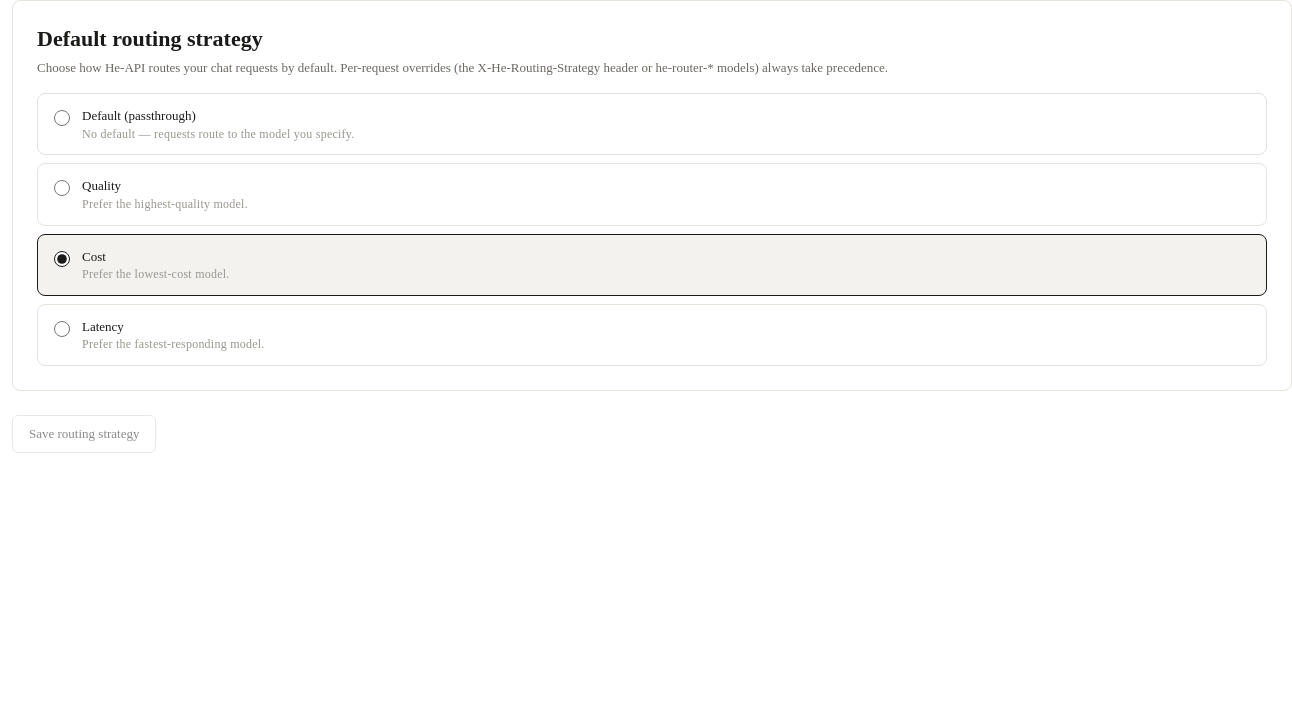
Test case: AC1: RoutingStrategyForm — select + persist › 6.5-UNIT-004: save success → success banner; selection retained
Click the radio button labelled "Quality Prefer the highest-quality model.". click: x=62, y=188
box: [54,180,70,196]
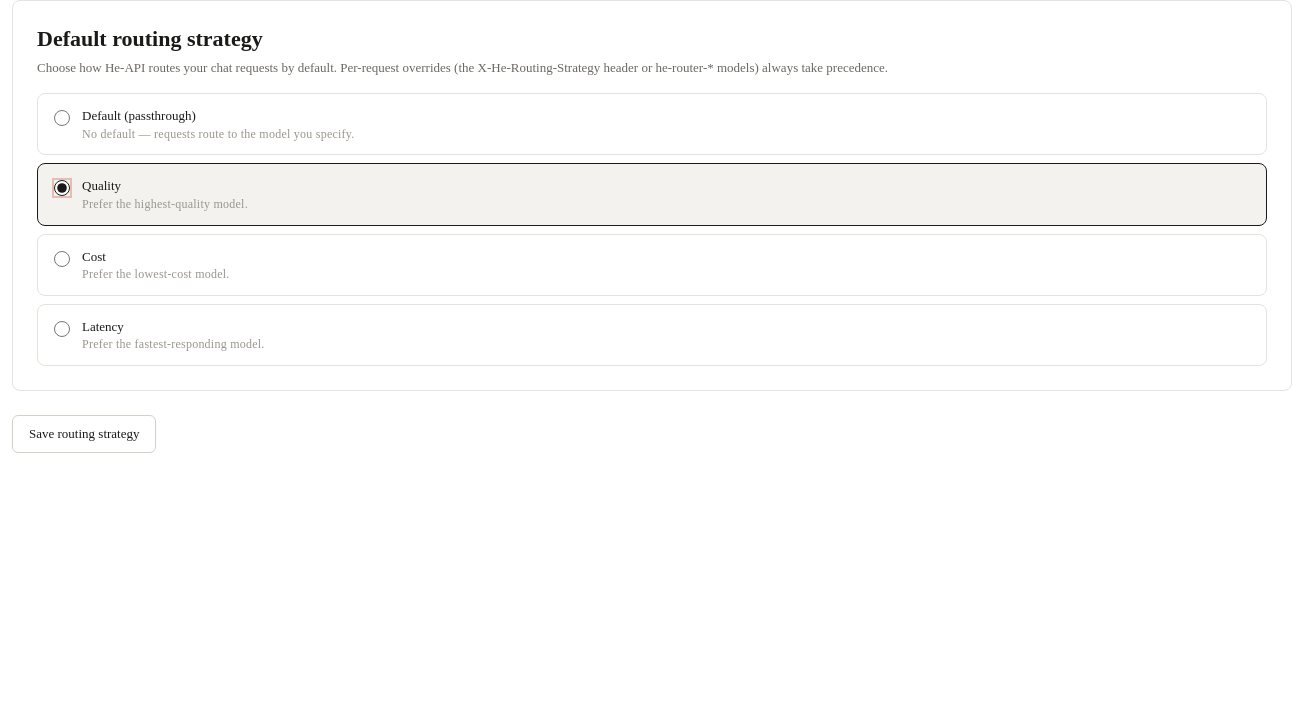
Click the button "Save routing strategy". click: x=84, y=434
box: [12,415,156,453]
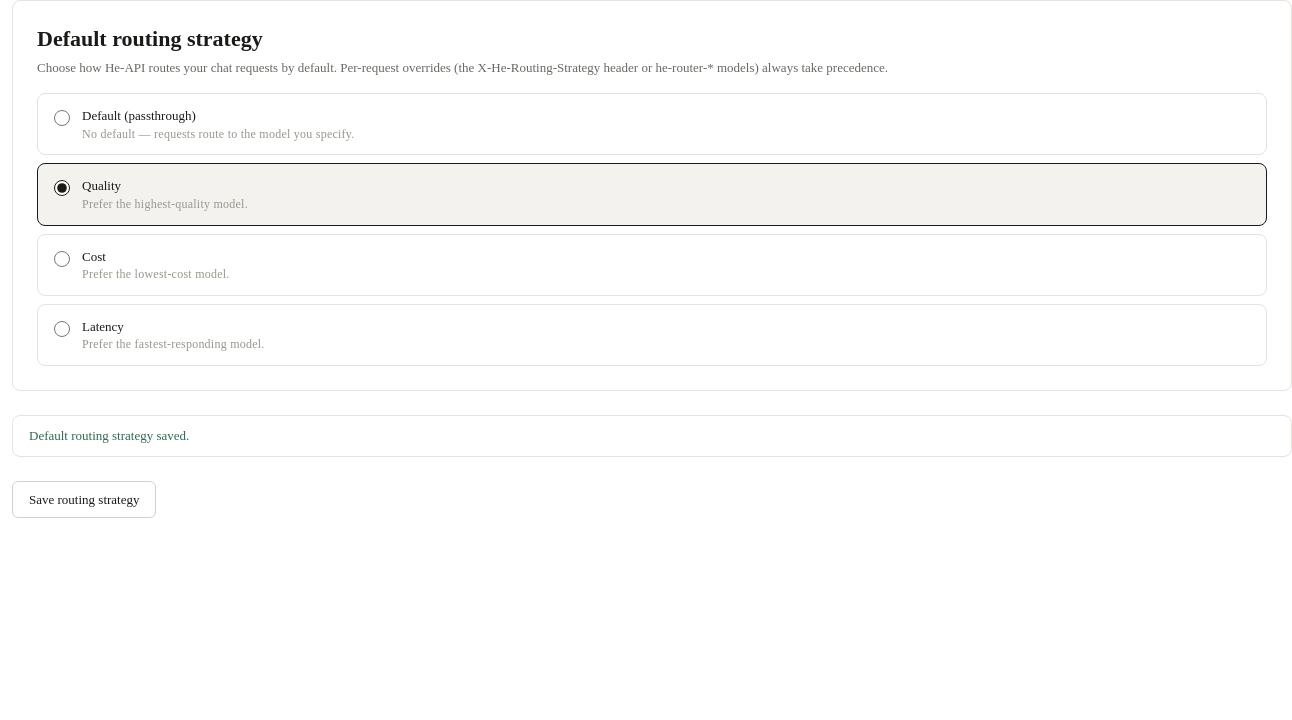
Now the radio button labelled "Quality Prefer the highest-quality model." is checked, box [54,180,70,196]
Now the text "Default routing strategy saved." is shown, box [12,415,1291,457]
